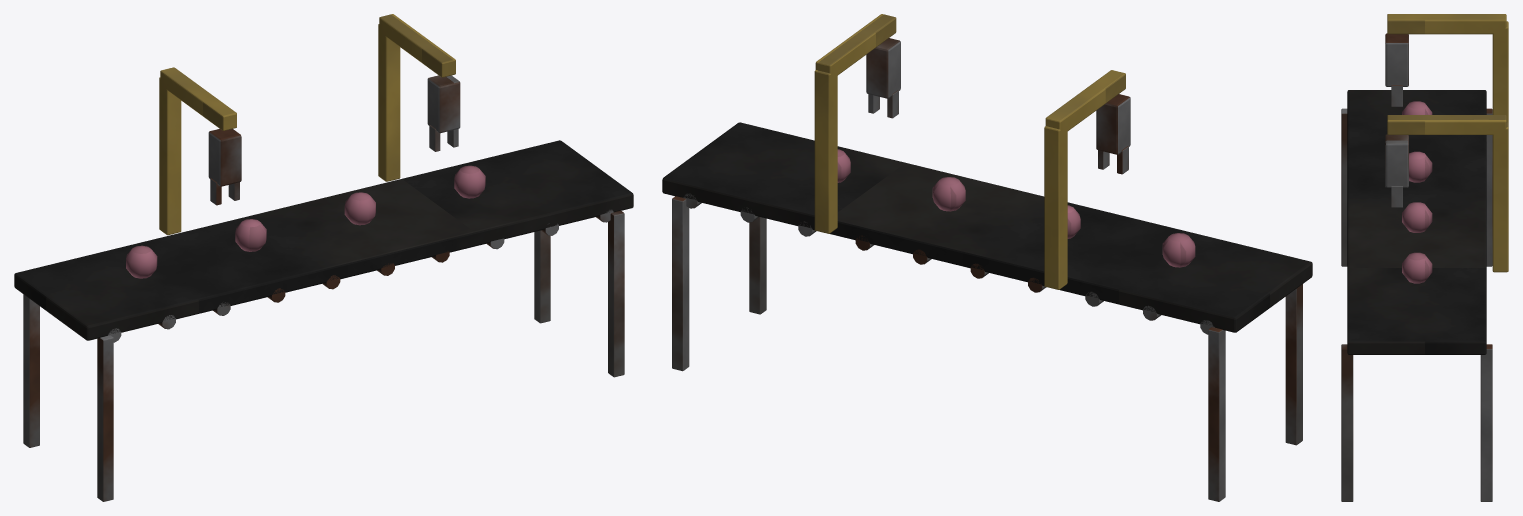
File: HM05_assembly_line_module_v2.glb
3 views of the same model, side by side, from view 1: azimuth 30°, elevation 25°; view 2: azimuth 150°, elevation 25°; view 3: azimuth 270°, elevation 25° (orthographic). The views are drawn at different scales.
Parts seen in each view (by area): view 1: HM05_assembly_line_module_v2; view 2: HM05_assembly_line_module_v2; view 3: HM05_assembly_line_module_v2.
Boxes of the visible parts, x1=… form: HM05_assembly_line_module_v2: x1=14, y1=14, x2=633, y2=501; HM05_assembly_line_module_v2: x1=662, y1=14, x2=1312, y2=501; HM05_assembly_line_module_v2: x1=1341, y1=14, x2=1508, y2=501.
Size of the model in its own units: 3 by 1.75 by 0.84.
Materials: 4 (4 with a texture image).
